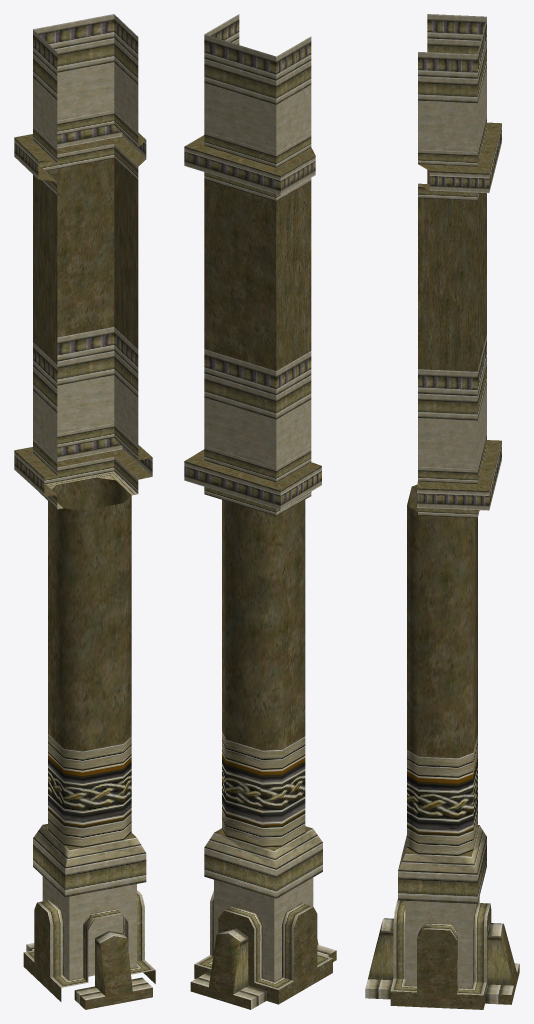
Rendered from CH09_SMAUG_PLAYSURFACE_LAIR60.fbx.
3 renders of one model, left to right at view 1: azimuth 30°, elevation 25°; view 2: azimuth 150°, elevation 25°; view 3: azimuth 270°, elevation 25°, orthographic.
Visible parts, largest first — view 1: CH09_SMAUG_PLAYSURFACE_LAIR60; view 2: CH09_SMAUG_PLAYSURFACE_LAIR60; view 3: CH09_SMAUG_PLAYSURFACE_LAIR60.
Boxes of the visible parts, x1=… form: CH09_SMAUG_PLAYSURFACE_LAIR60: x1=14, y1=14, x2=155, y2=1009; CH09_SMAUG_PLAYSURFACE_LAIR60: x1=184, y1=14, x2=336, y2=1009; CH09_SMAUG_PLAYSURFACE_LAIR60: x1=365, y1=14, x2=519, y2=1009.
Size of the model in its own units: 32491 by 271667 by 39831.
7 materials, 7 textured.
